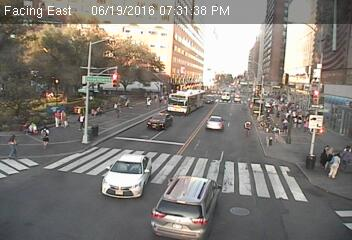neg: (238, 115, 255, 137), (263, 134, 275, 150)
pos: (1, 131, 23, 161), (326, 152, 346, 180), (35, 124, 55, 151), (318, 143, 334, 165), (337, 143, 351, 167), (58, 107, 72, 126), (50, 105, 64, 124), (325, 148, 339, 166), (76, 113, 89, 132), (290, 115, 301, 129), (109, 100, 120, 114), (295, 117, 305, 130), (87, 106, 97, 119), (143, 95, 153, 107), (122, 95, 131, 108), (95, 104, 104, 116)
